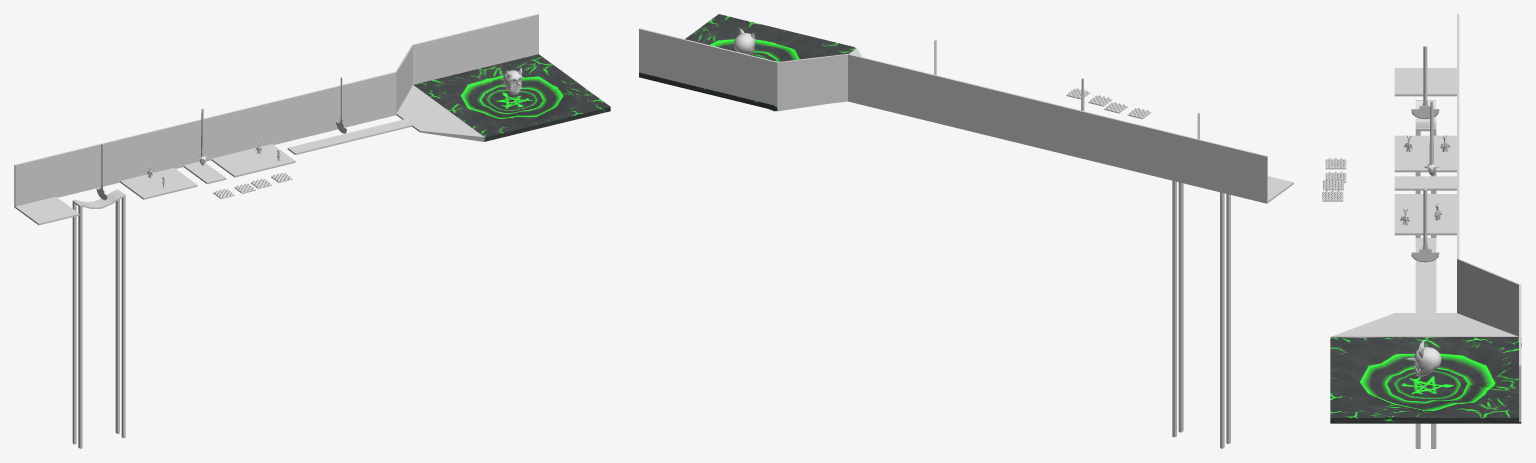
File: ikinci_lvl.fbx
The picture shows the model from 3 angles, left to right: view 1: azimuth 30°, elevation 25°; view 2: azimuth 150°, elevation 25°; view 3: azimuth 270°, elevation 25°; orthographic projection. The views are drawn at different scales.
Visible parts, largest first — view 1: duvar, Savas_alanı_002, Kopru, Kopru_zemın, zemın_bossa_dogru, zemın_001; view 2: duvar, Kopru, Savas_alanı_002; view 3: Savas_alanı_002, Kopru_zemın, duvar, zemın_bossa_dogru, zemın_001, Kopru, Boss_2, sallanan_bicak.001, sallanan_bicak, tuzak_gurz, tuzak_001, tuzak_002 (+1 smaller).
Boxes of the visible parts, <box> form: duvar: <box>14,14,538,207</box>; Savas_alanı_002: <box>414,54,610,141</box>; Kopru: <box>72,189,125,448</box>; Kopru_zemın: <box>120,144,295,199</box>; zemın_bossa_dogru: <box>287,85,484,154</box>; zemın_001: <box>15,196,79,225</box>; duvar: <box>639,28,1267,203</box>; Kopru: <box>1172,180,1230,448</box>; Savas_alanı_002: <box>639,14,855,111</box>; Savas_alanı_002: <box>1330,337,1521,423</box>; Kopru_zemın: <box>1394,135,1456,235</box>; duvar: <box>1457,14,1521,421</box>; zemın_bossa_dogru: <box>1330,238,1518,337</box>; zemın_001: <box>1394,68,1456,96</box>; Kopru: <box>1415,100,1436,448</box>; Boss_2: <box>1406,340,1441,376</box>; sallanan_bicak.001: <box>1411,189,1439,262</box>; sallanan_bicak: <box>1411,45,1439,119</box>; tuzak_gurz: <box>1424,101,1439,176</box>; tuzak_001: <box>1325,158,1346,169</box>; tuzak_002: <box>1322,190,1343,201</box>.
Bounding box in the file's own units: 36202 × 19229 × 8659.
